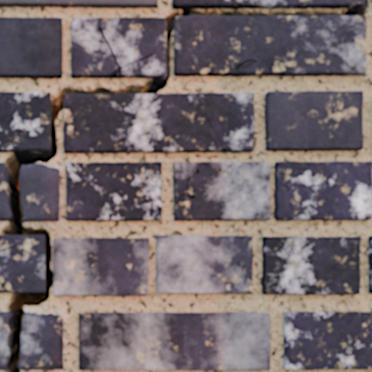brick: (174, 16, 365, 75), (64, 93, 253, 152), (79, 313, 269, 369), (265, 92, 362, 149), (72, 18, 165, 77), (275, 162, 371, 219), (67, 162, 161, 220), (174, 162, 269, 219), (263, 237, 359, 293), (157, 236, 252, 292), (54, 238, 148, 294), (284, 312, 371, 368), (0, 18, 61, 77), (0, 92, 49, 151), (0, 236, 44, 291), (173, 0, 346, 8), (0, 0, 156, 7), (346, 0, 363, 7), (369, 237, 371, 292)
broken_brick: (19, 311, 63, 369), (20, 163, 59, 222), (0, 162, 9, 221), (0, 311, 8, 370)
crack: (1, 0, 369, 371), (97, 26, 153, 76), (204, 113, 232, 151), (174, 168, 200, 203), (79, 326, 87, 335)
